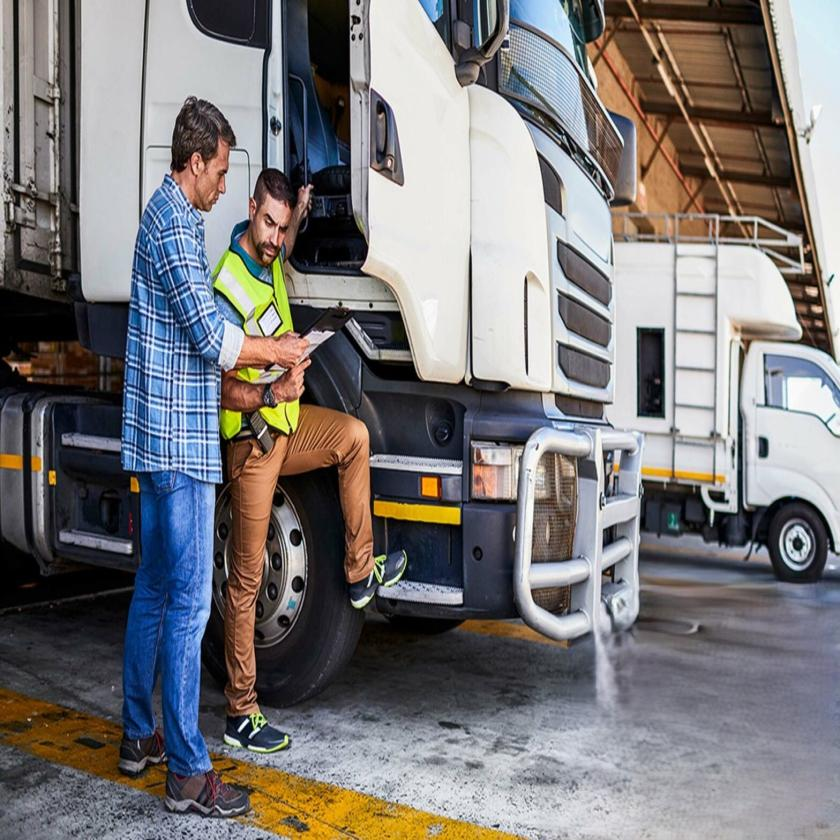Sin_casco: (166, 94, 235, 213), (249, 168, 294, 264)
